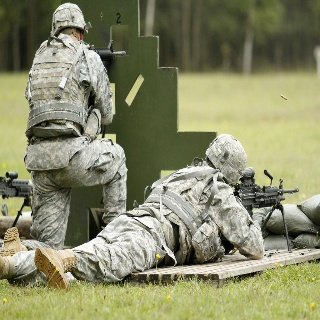rifle: (227, 169, 301, 253)
